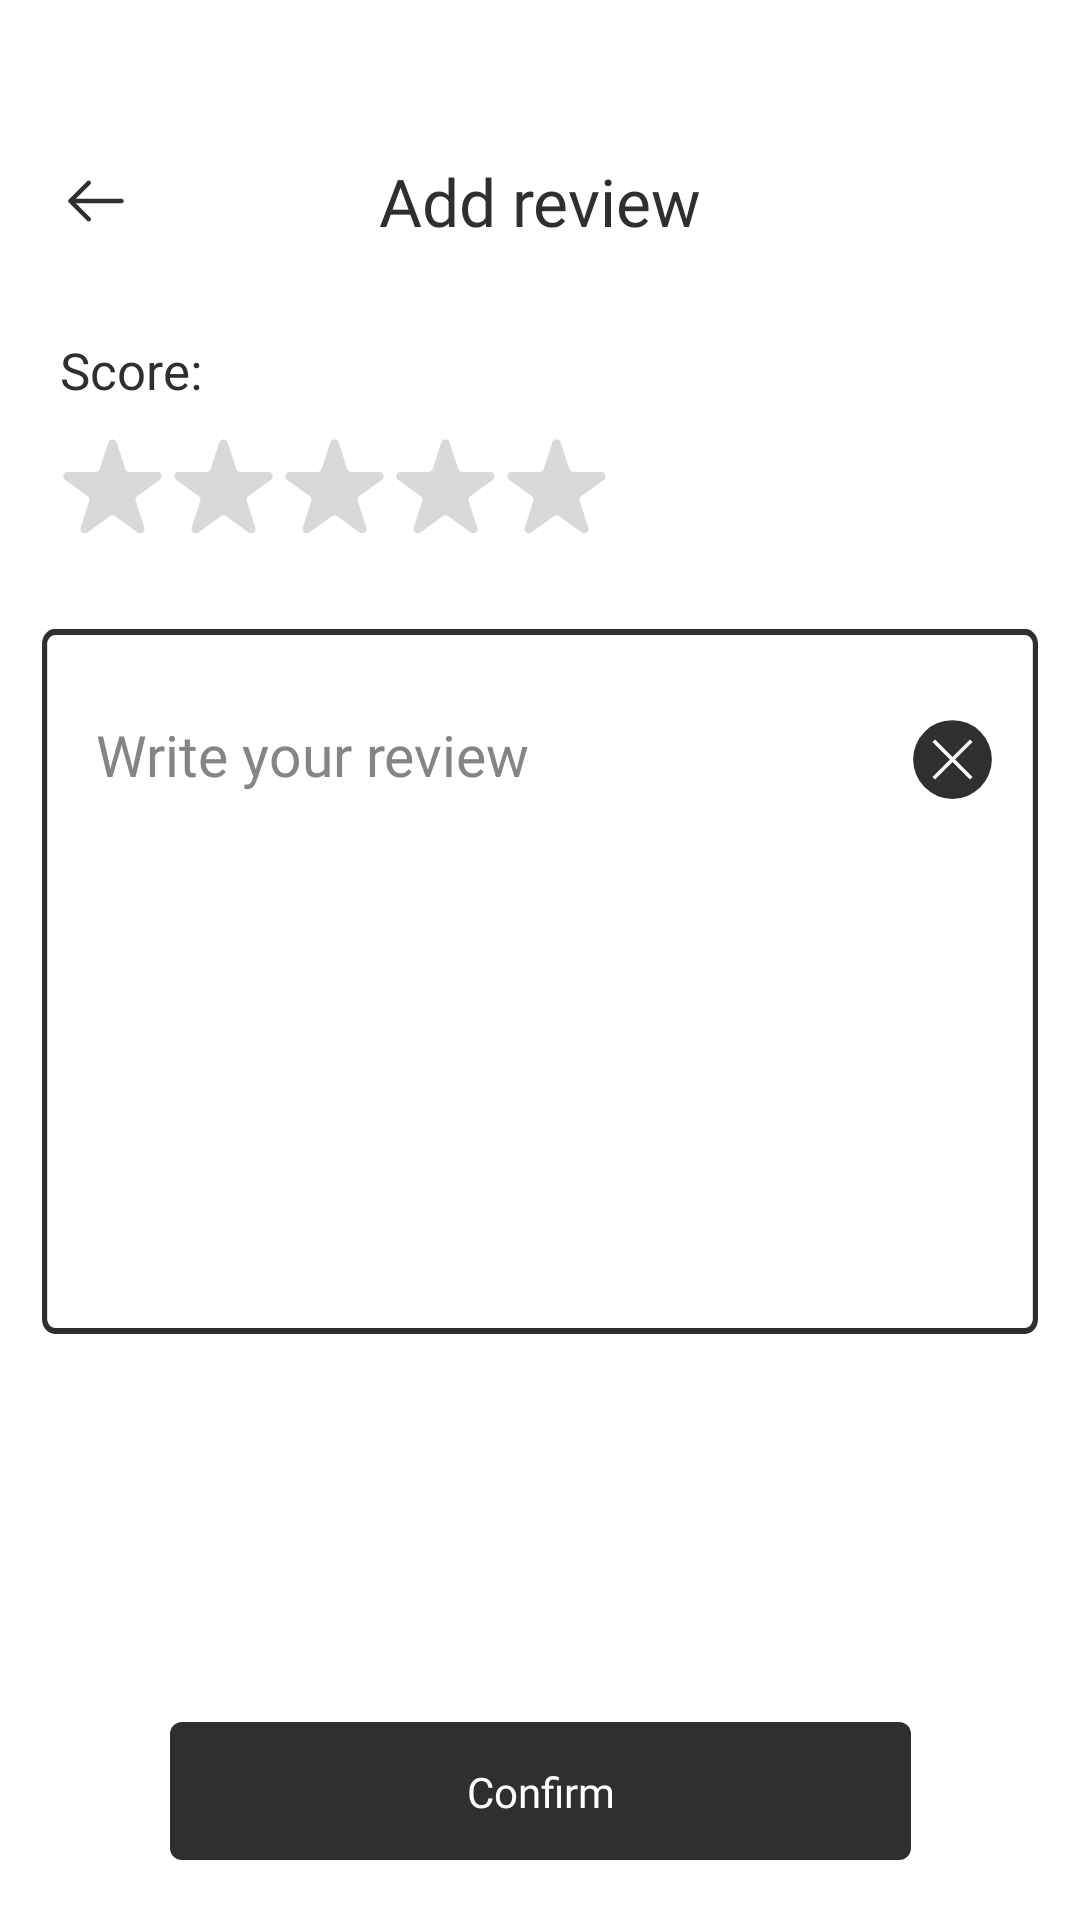

Point at icon controls on the screen. Image size 1080x1920, points as (x,y).
arrow left: (96,201)
cancelbutton: (952,759)
star: (112,486), (223,486), (334,486), (445,486), (556,486)
